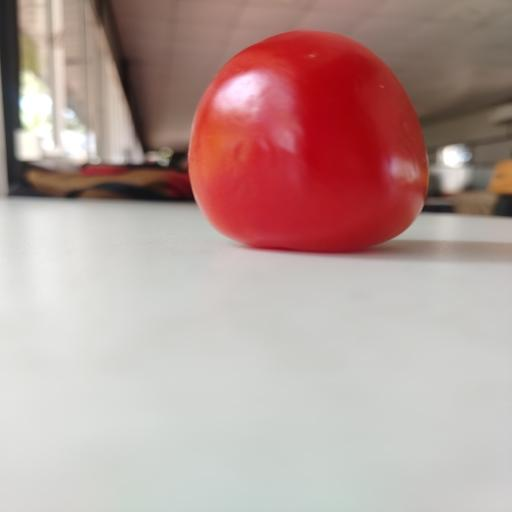ripe: (189, 31, 428, 252)
